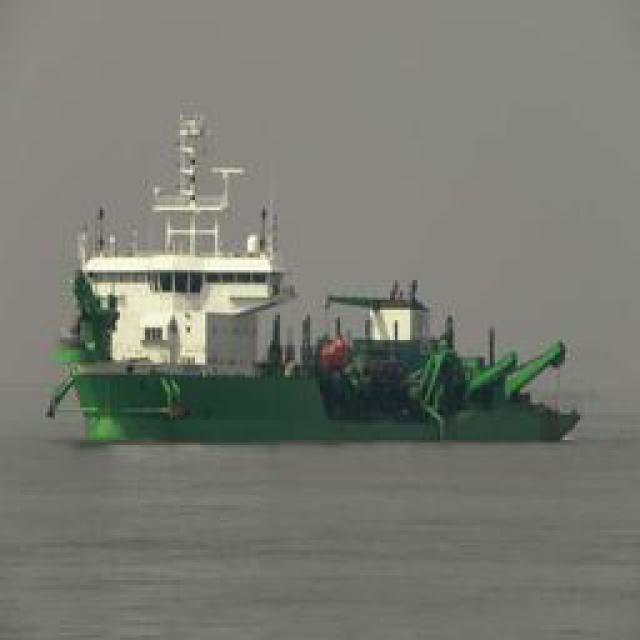Ship: (40, 99, 593, 458)
